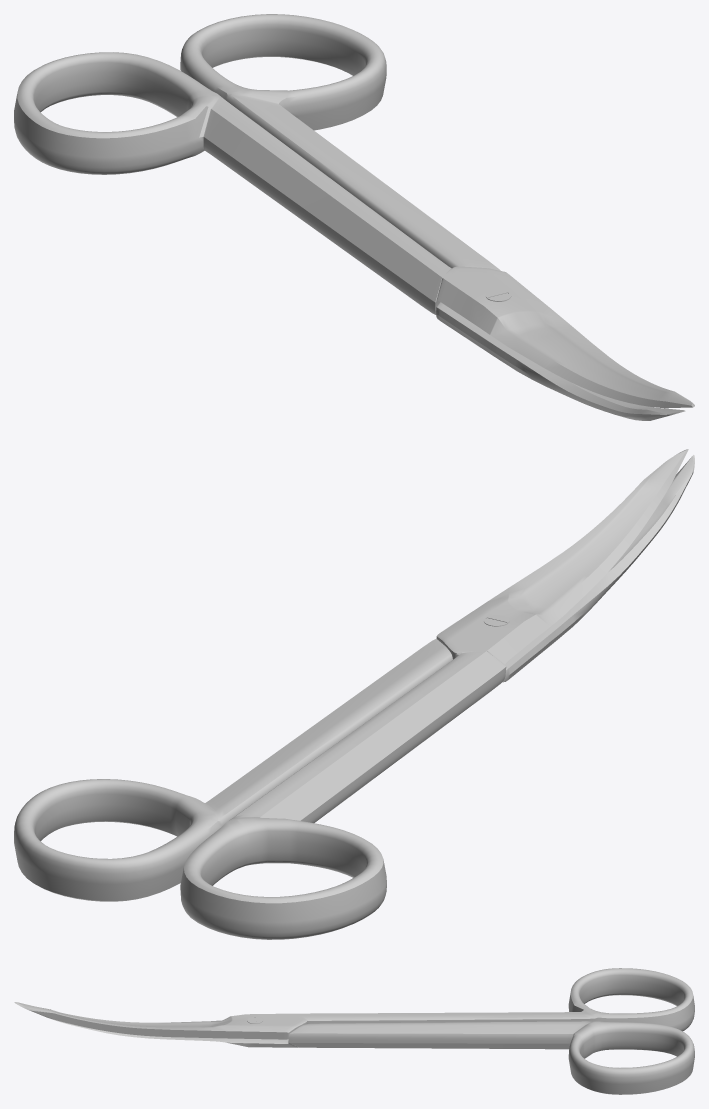
Rendered from model_Keonhocong.fbx.
3 views of the same model, one above another, from view 1: azimuth 30°, elevation 25°; view 2: azimuth 150°, elevation 25°; view 3: azimuth 270°, elevation 25° (orthographic). The views are drawn at different scales.
Visible parts, largest first — view 1: Keonhocong_R, Keonhocong_L; view 2: Keonhocong_R, Keonhocong_L; view 3: Keonhocong_L, Keonhocong_R.
Boxes of the visible parts, bbox=[...] form: Keonhocong_R: bbox=[14, 52, 694, 408]; Keonhocong_L: bbox=[180, 14, 685, 420]; Keonhocong_R: bbox=[180, 449, 688, 939]; Keonhocong_L: bbox=[14, 455, 694, 901]; Keonhocong_L: bbox=[41, 1007, 694, 1094]; Keonhocong_R: bbox=[14, 968, 694, 1039].
Size of the model in its own units: 2.13 by 0.4167 by 5.86.
Materials: 1 (1 with a texture image).
